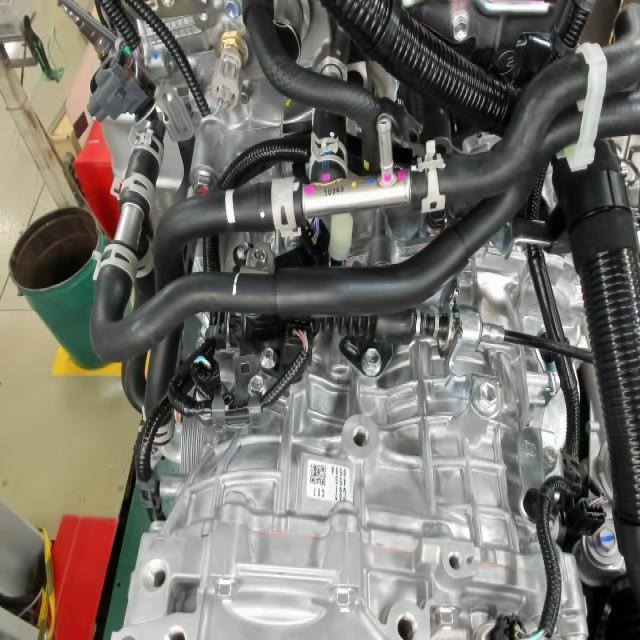Transaxele-C87-A27: (309, 486, 352, 510)
